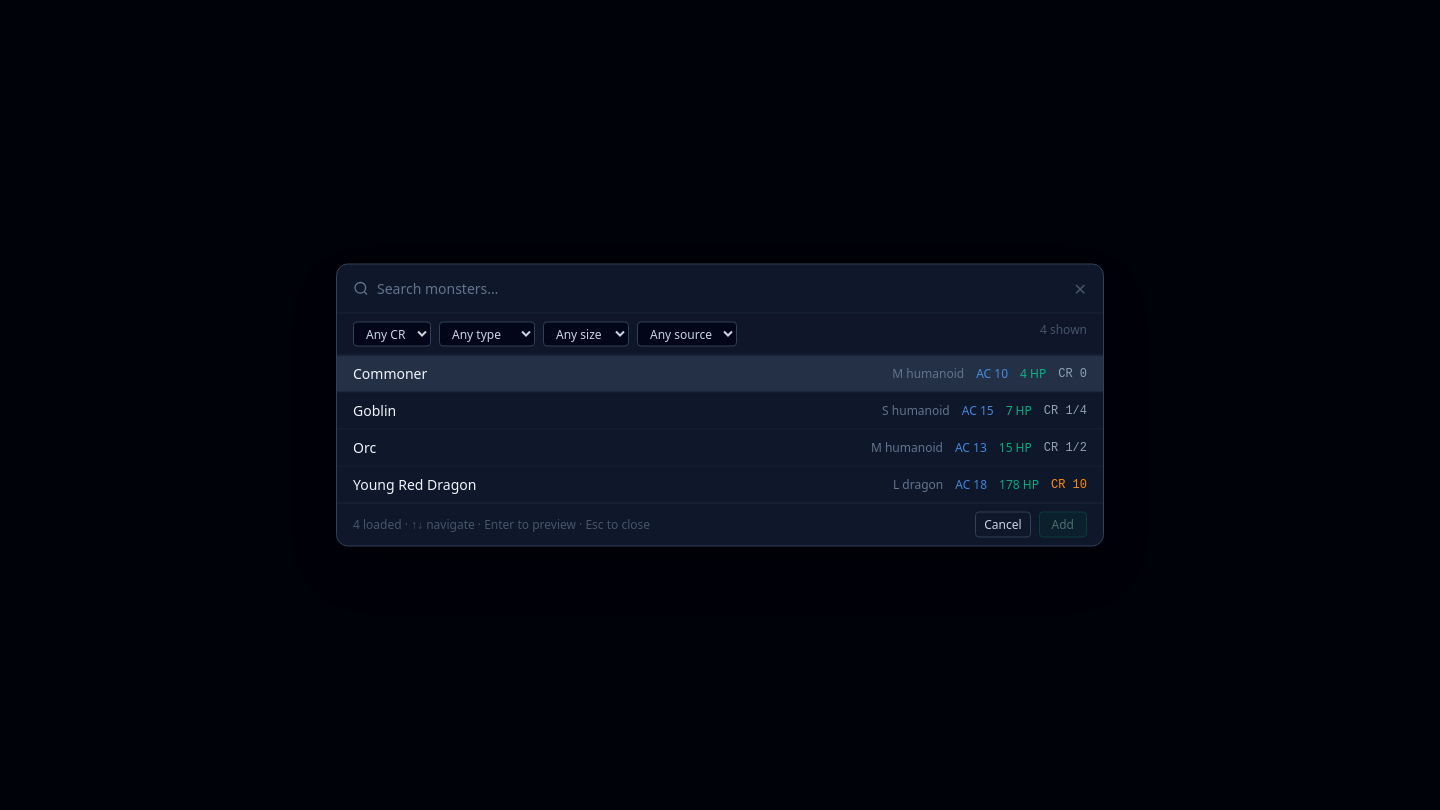
Test case: MonsterPicker › CR dropdown filter restricts the result list
Select "CR 1/4" in the 1st dropdown at (392, 334), box [353,322,431,346]
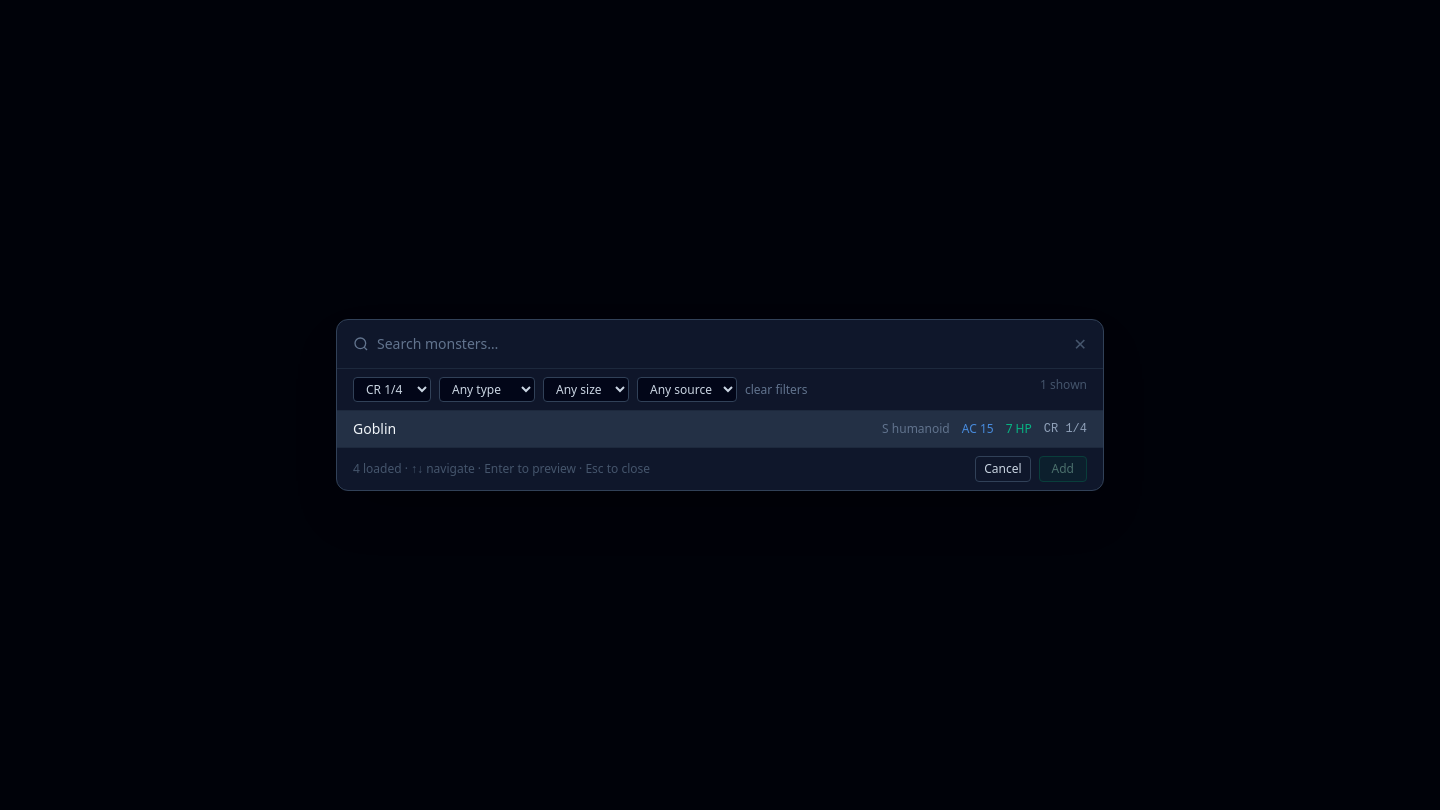
Expected: the text "Goblin" is shown, [353,419,396,438]
Expected: the button "Orc" is gone
